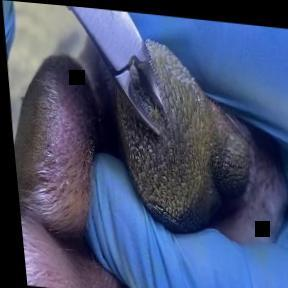keratosis: (107, 29, 259, 234)
